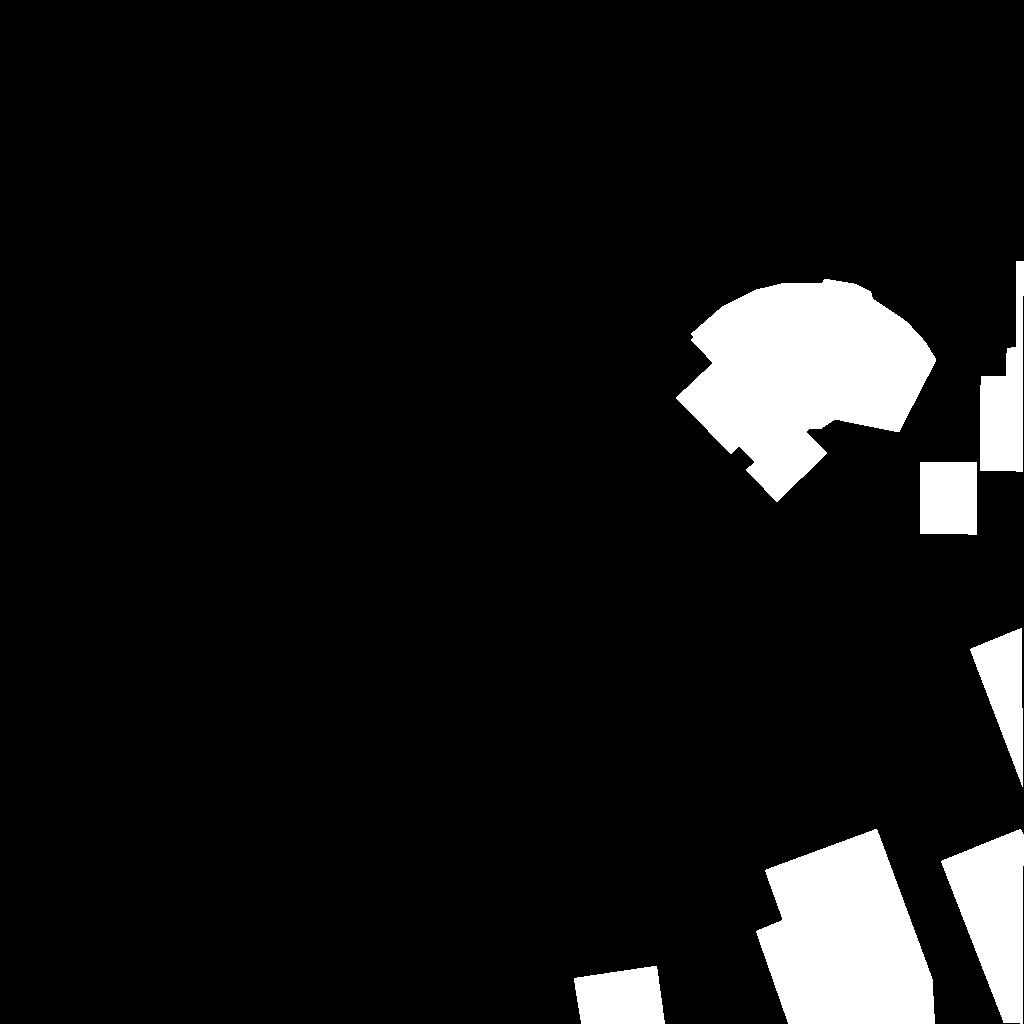building: (676, 279, 937, 503), (756, 829, 936, 1024), (941, 628, 1024, 1024), (980, 261, 1024, 472), (574, 966, 666, 1024), (920, 462, 978, 535)
